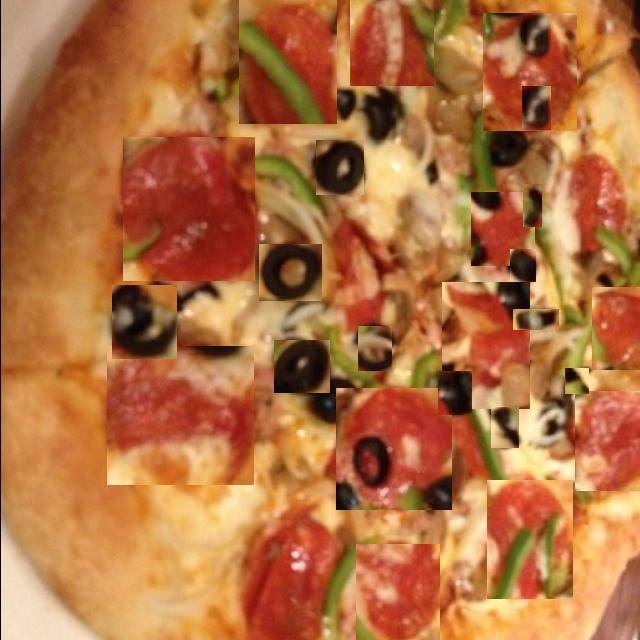olive: (111, 285, 176, 359), (258, 244, 321, 301), (273, 340, 329, 393), (314, 140, 362, 195), (310, 380, 360, 425), (484, 128, 530, 169), (364, 90, 399, 142), (398, 411, 431, 459), (357, 326, 391, 371), (437, 371, 471, 415), (521, 86, 550, 130), (534, 404, 562, 446), (490, 407, 518, 448), (512, 309, 558, 330), (508, 249, 534, 282), (522, 184, 541, 227), (564, 368, 588, 394), (332, 90, 355, 117)
pepperoni: (106, 346, 253, 485), (122, 138, 254, 282), (335, 388, 451, 510), (238, 517, 340, 639), (238, 0, 336, 124), (482, 13, 576, 132), (441, 282, 528, 409), (486, 480, 572, 599), (354, 544, 438, 640), (349, 0, 433, 86), (574, 391, 640, 491), (570, 156, 626, 252), (469, 192, 534, 266), (591, 287, 640, 370)
pizza: (0, 0, 640, 640)
